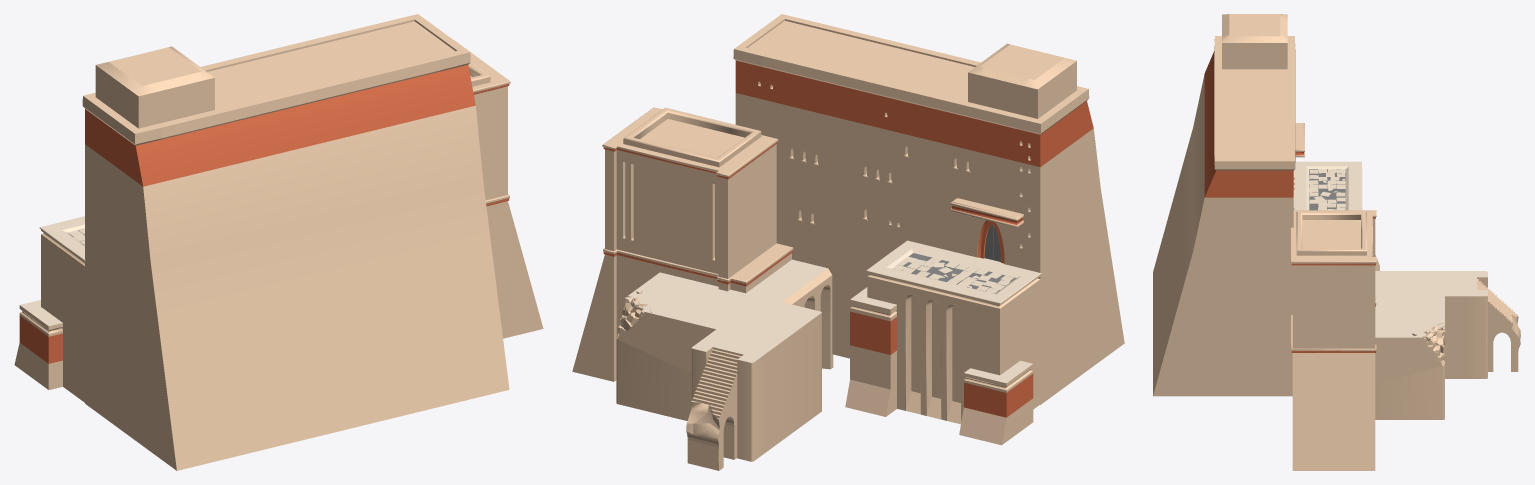
3 views of the same model, side by side, from view 1: azimuth 30°, elevation 25°; view 2: azimuth 150°, elevation 25°; view 3: azimuth 270°, elevation 25° (orthographic). The views are drawn at different scales.
Parts seen in each view (by area): view 1: LS_A1, LS_A2, LS_A3; view 2: LS_A1, LS_A3, LS_A2, LS_A4, LS_A_stairs, LS_A_Tiles, LS_A_Overhang, LS_A_4_RubbleCorner; view 3: LS_A1, LS_A3, LS_A4, LS_A2, LS_A_stairs, LS_A_Tiles, LS_A_4_RubbleCorner.
Boxes of the visible parts, x1,y1,x2,y2 form: LS_A1: (82,14,509,470); LS_A2: (14,216,85,402); LS_A3: (454,40,543,338); LS_A1: (733,14,1124,404); LS_A3: (572,107,793,381); LS_A2: (845,240,1041,445); LS_A4: (616,259,833,461); LS_A_stairs: (686,349,741,470); LS_A_Tiles: (892,256,1013,293); LS_A_Overhang: (950,198,1023,227); LS_A_4_RubbleCorner: (617,290,653,339); LS_A1: (1153,14,1295,396); LS_A3: (1290,210,1376,470); LS_A4: (1375,271,1487,419); LS_A2: (1293,161,1379,270); LS_A_stairs: (1477,279,1520,371); LS_A_Tiles: (1309,169,1345,210); LS_A_4_RubbleCorner: (1412,322,1446,365).
Size of the model in its own units: 10577 by 8158 by 9330.
